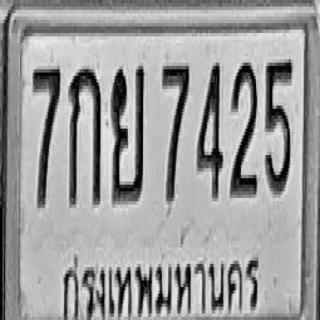A01: (68, 64, 101, 206)
A34: (110, 63, 144, 201)
N02: (230, 59, 257, 195)
N04: (196, 60, 223, 198)
N05: (265, 58, 292, 193)
N07: (162, 61, 190, 203), (33, 64, 60, 206)
P04: (60, 244, 264, 320)
